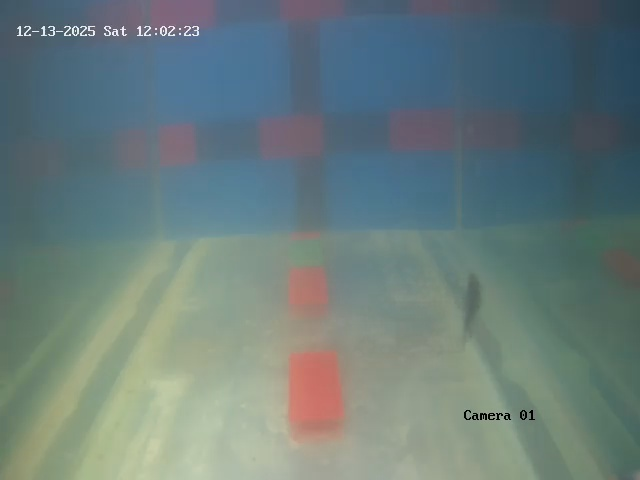fish: (446, 266, 493, 355)
